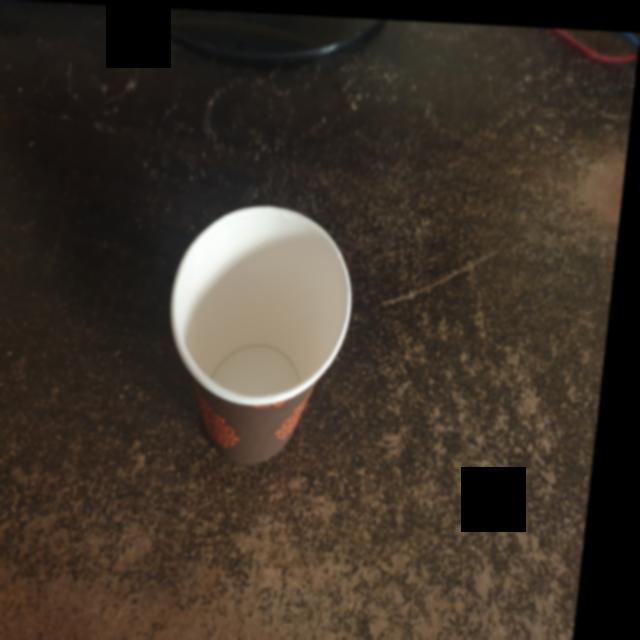cups: (156, 196, 373, 480)
